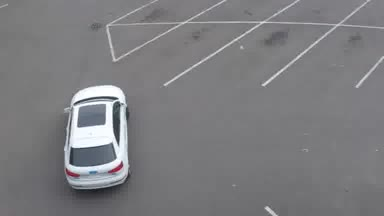car: (59, 84, 133, 189)
